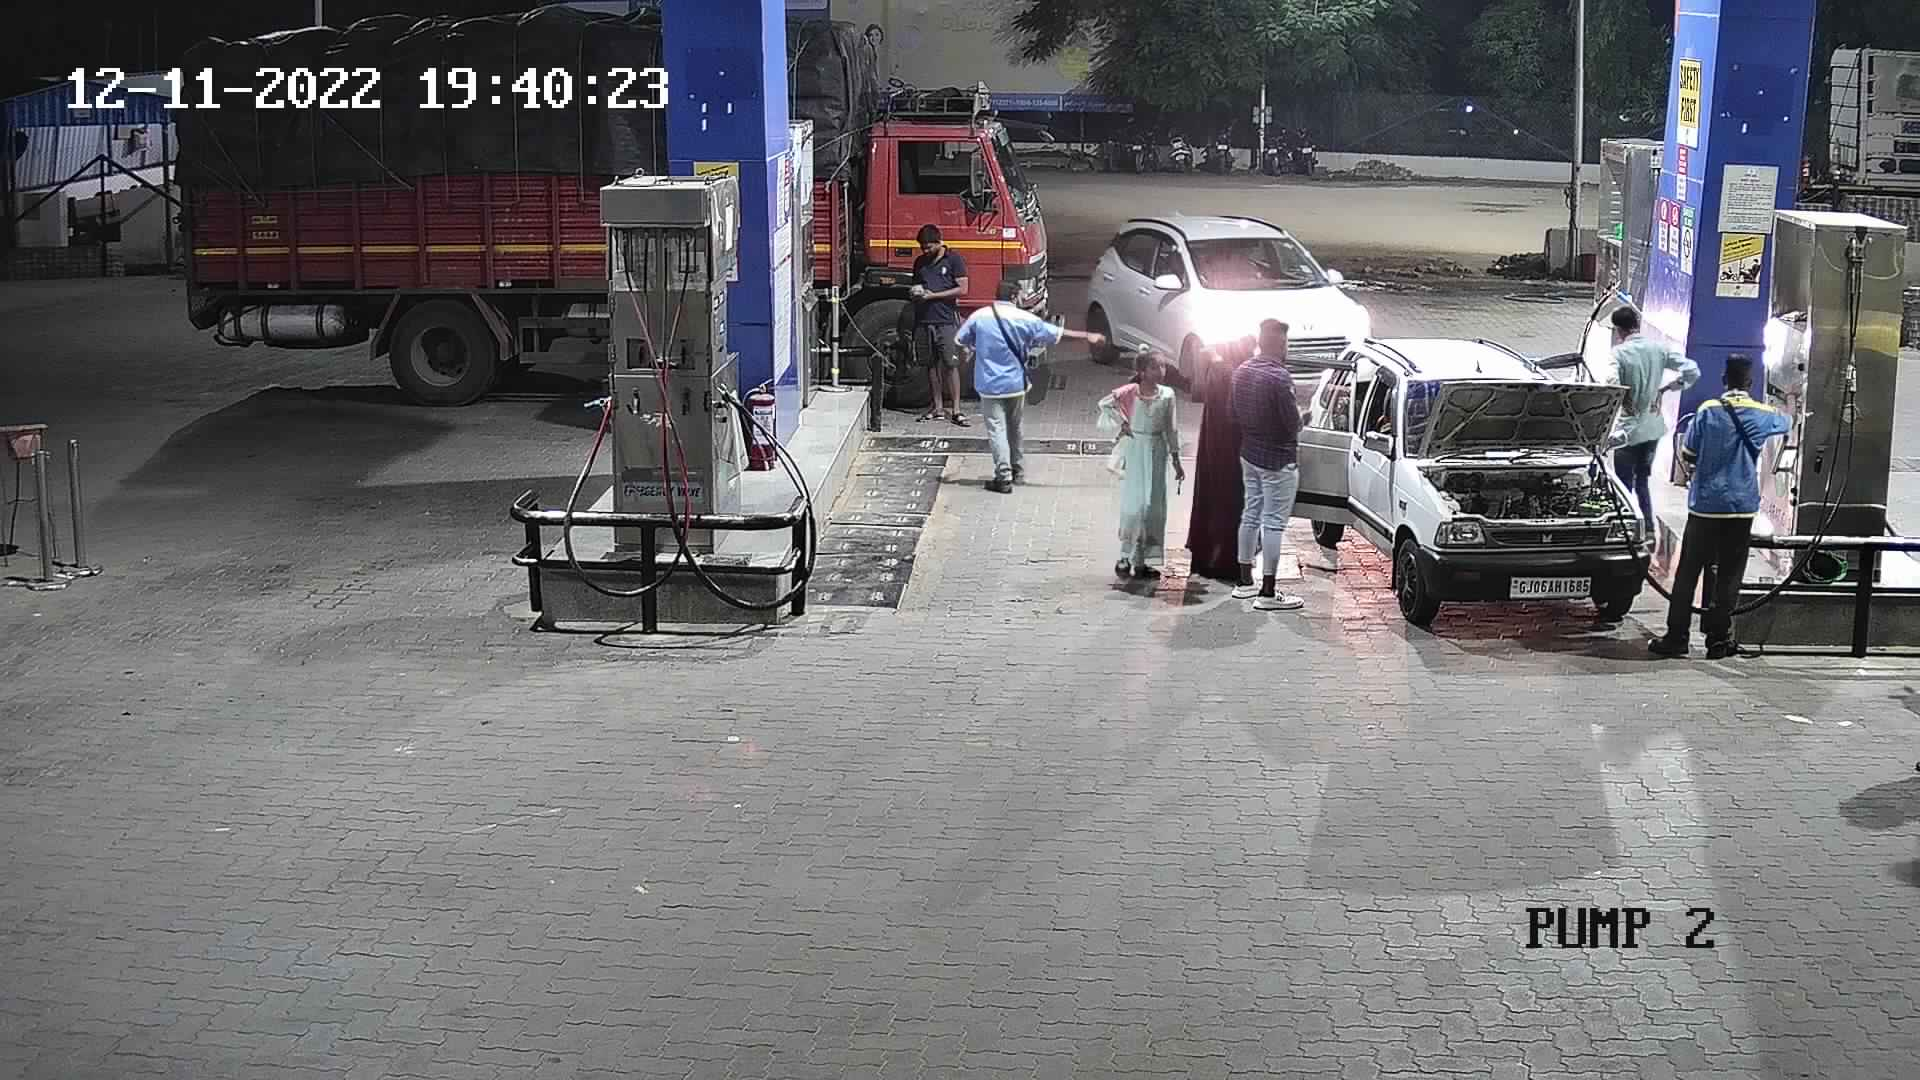Bike: (1158, 116, 1203, 181), (1120, 117, 1162, 179), (1199, 113, 1240, 173), (1286, 117, 1323, 177), (1257, 120, 1290, 182)
Car: (1271, 320, 1667, 616), (1072, 196, 1382, 405)
HMV: (779, 3, 1087, 419), (1787, 26, 1913, 224)
Others: (1644, 349, 1791, 659), (938, 269, 1065, 495)
